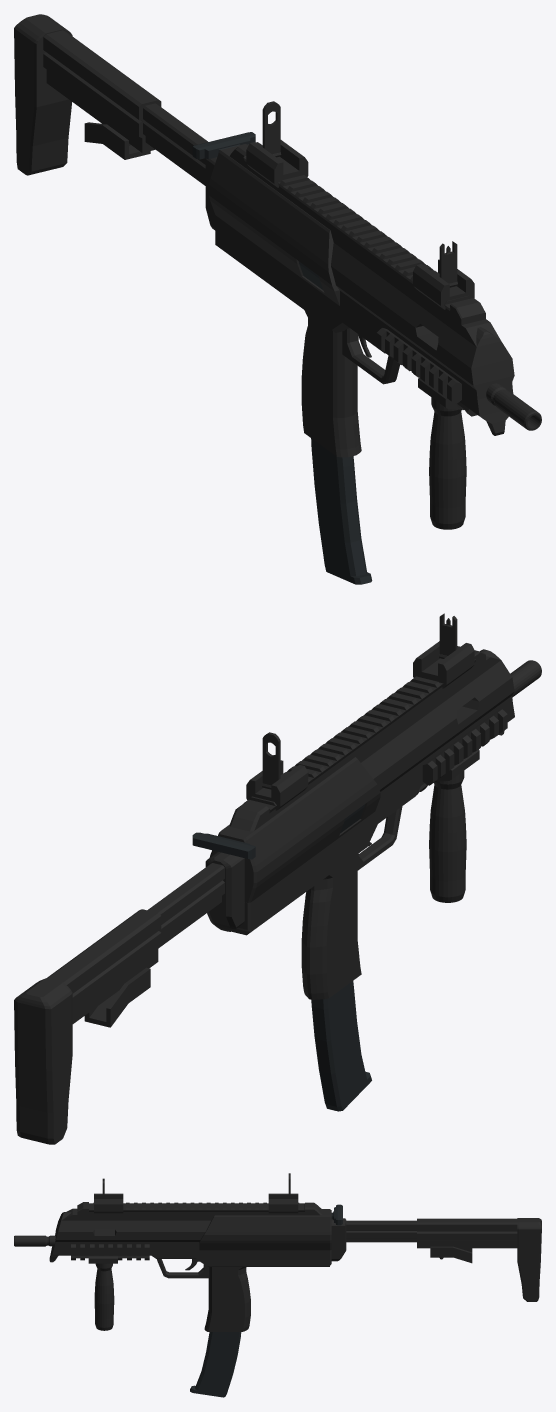
The picture shows the model from 3 angles, top to bottom: view 1: azimuth 30°, elevation 25°; view 2: azimuth 150°, elevation 25°; view 3: azimuth 270°, elevation 25°; orthographic projection. The views are drawn at different scales.
Visible parts, largest first — view 1: mp7; view 2: mp7; view 3: mp7.
Part boxes in pixels (bbox=[...]): mp7: bbox=[14, 14, 541, 584]; mp7: bbox=[14, 613, 541, 1144]; mp7: bbox=[14, 1173, 541, 1397].
Bounding box in the file's own units: 0.0435 × 0.2949 × 0.638.
4 materials, 4 textured.
